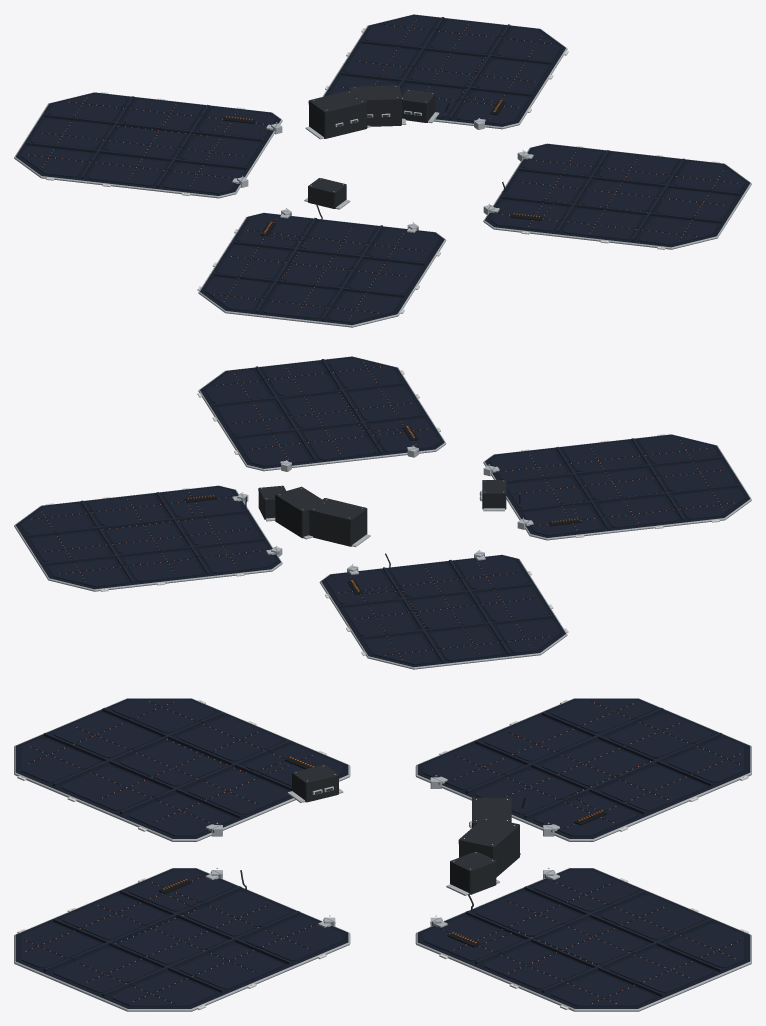
File: orbiter-solar.glb
3 views of the same model, one above another, from view 1: azimuth 30°, elevation 25°; view 2: azimuth 150°, elevation 25°; view 3: azimuth 270°, elevation 25° (orthographic). The views are drawn at different scales.
Visible parts, largest first — view 1: ARRAY_0_REAR_PADS_LO1_solar_panel_navy_rear_pad, ARRAY_2_REAR_PADS_LO1_solar_panel_navy_rear_pad, ARRAY_1_REAR_PADS_LO1_solar_panel_navy_rear_pad, ARRAY_3_REAR_PADS_LO1_solar_panel_navy_rear_pad, ARRAY_1_BACKING_LO1_solar_panel_navy-black_back, ARRAY_0_BACKING_LO1_solar_panel_navy-black_back, ARRAY_2_BACKING_LO1_solar_panel_navy-black_back, ARRAY_3_BACKING_LO1_solar_panel_navy-black_back, ARRAY_2_RIBS_LO1_solar_panel_navy_anodized_stiffener, ARRAY_0_RIBS_LO1_solar_panel_navy_anodized_stiffener, ARRAY_1_RIBS_LO1_solar_panel_navy_anodized_stiffener, ARRAY_3_RIBS_LO1_solar_panel_navy_anodized_stiffener (+14 smaller); view 2: ARRAY_3_REAR_PADS_LO1_solar_panel_navy_rear_pad, ARRAY_2_REAR_PADS_LO1_solar_panel_navy_rear_pad, ARRAY_1_REAR_PADS_LO1_solar_panel_navy_rear_pad, ARRAY_0_REAR_PADS_LO1_solar_panel_navy_rear_pad, ARRAY_2_BACKING_LO1_solar_panel_navy-black_back, ARRAY_0_BACKING_LO1_solar_panel_navy-black_back, ARRAY_3_BACKING_LO1_solar_panel_navy-black_back, ARRAY_1_BACKING_LO1_solar_panel_navy-black_back, ARRAY_3_RIBS_LO1_solar_panel_navy_anodized_stiffener, ARRAY_1_RIBS_LO1_solar_panel_navy_anodized_stiffener, ARRAY_2_RIBS_LO1_solar_panel_navy_anodized_stiffener, ARRAY_0_RIBS_LO1_solar_panel_navy_anodized_stiffener (+12 smaller); view 3: ARRAY_0_REAR_PADS_LO1_solar_panel_navy_rear_pad, ARRAY_3_REAR_PADS_LO1_solar_panel_navy_rear_pad, ARRAY_2_REAR_PADS_LO1_solar_panel_navy_rear_pad, ARRAY_1_REAR_PADS_LO1_solar_panel_navy_rear_pad, ARRAY_0_BACKING_LO1_solar_panel_navy-black_back, ARRAY_3_BACKING_LO1_solar_panel_navy-black_back, ARRAY_2_BACKING_LO1_solar_panel_navy-black_back, ARRAY_1_BACKING_LO1_solar_panel_navy-black_back, ARRAY_0_RIBS_LO1_solar_panel_navy_anodized_stiffener, ARRAY_2_RIBS_LO1_solar_panel_navy_anodized_stiffener, ARRAY_3_RIBS_LO1_solar_panel_navy_anodized_stiffener, ARRAY_1_RIBS_LO1_solar_panel_navy_anodized_stiffener (+15 smaller).
Part boxes in pixels (bbox=[...]): ARRAY_0_REAR_PADS_LO1_solar_panel_navy_rear_pad: bbox=[490, 145, 745, 244]; ARRAY_2_REAR_PADS_LO1_solar_panel_navy_rear_pad: bbox=[20, 94, 275, 193]; ARRAY_1_REAR_PADS_LO1_solar_panel_navy_rear_pad: bbox=[205, 214, 439, 322]; ARRAY_3_REAR_PADS_LO1_solar_panel_navy_rear_pad: bbox=[329, 16, 560, 124]; ARRAY_1_BACKING_LO1_solar_panel_navy-black_back: bbox=[200, 213, 444, 325]; ARRAY_0_BACKING_LO1_solar_panel_navy-black_back: bbox=[485, 143, 750, 247]; ARRAY_2_BACKING_LO1_solar_panel_navy-black_back: bbox=[15, 92, 280, 195]; ARRAY_3_BACKING_LO1_solar_panel_navy-black_back: bbox=[324, 14, 565, 126]; ARRAY_2_RIBS_LO1_solar_panel_navy_anodized_stiffener: bbox=[26, 96, 264, 187]; ARRAY_0_RIBS_LO1_solar_panel_navy_anodized_stiffener: bbox=[501, 150, 739, 241]; ARRAY_1_RIBS_LO1_solar_panel_navy_anodized_stiffener: bbox=[213, 218, 424, 320]; ARRAY_3_RIBS_LO1_solar_panel_navy_anodized_stiffener: bbox=[341, 17, 552, 119]; ARRAY_3_REAR_PADS_LO1_solar_panel_navy_rear_pad: bbox=[20, 487, 275, 586]; ARRAY_2_REAR_PADS_LO1_solar_panel_navy_rear_pad: bbox=[326, 556, 560, 664]; ARRAY_1_REAR_PADS_LO1_solar_panel_navy_rear_pad: bbox=[490, 436, 745, 535]; ARRAY_0_REAR_PADS_LO1_solar_panel_navy_rear_pad: bbox=[205, 358, 439, 466]; ARRAY_2_BACKING_LO1_solar_panel_navy-black_back: bbox=[321, 555, 565, 667]; ARRAY_0_BACKING_LO1_solar_panel_navy-black_back: bbox=[200, 356, 444, 468]; ARRAY_3_BACKING_LO1_solar_panel_navy-black_back: bbox=[15, 485, 280, 589]; ARRAY_1_BACKING_LO1_solar_panel_navy-black_back: bbox=[485, 434, 750, 537]; ARRAY_3_RIBS_LO1_solar_panel_navy_anodized_stiffener: bbox=[26, 492, 264, 583]; ARRAY_1_RIBS_LO1_solar_panel_navy_anodized_stiffener: bbox=[506, 438, 739, 529]; ARRAY_2_RIBS_LO1_solar_panel_navy_anodized_stiffener: bbox=[341, 560, 552, 662]; ARRAY_0_RIBS_LO1_solar_panel_navy_anodized_stiffener: bbox=[213, 359, 424, 461]; ARRAY_0_REAR_PADS_LO1_solar_panel_navy_rear_pad: bbox=[21, 870, 342, 1006]; ARRAY_3_REAR_PADS_LO1_solar_panel_navy_rear_pad: bbox=[423, 870, 744, 1006]; ARRAY_2_REAR_PADS_LO1_solar_panel_navy_rear_pad: bbox=[423, 700, 744, 836]; ARRAY_1_REAR_PADS_LO1_solar_panel_navy_rear_pad: bbox=[21, 700, 342, 836]; ARRAY_0_BACKING_LO1_solar_panel_navy-black_back: bbox=[15, 868, 348, 1008]; ARRAY_3_BACKING_LO1_solar_panel_navy-black_back: bbox=[417, 868, 750, 1008]; ARRAY_2_BACKING_LO1_solar_panel_navy-black_back: bbox=[417, 698, 750, 838]; ARRAY_1_BACKING_LO1_solar_panel_navy-black_back: bbox=[15, 698, 348, 838]; ARRAY_0_RIBS_LO1_solar_panel_navy_anodized_stiffener: bbox=[43, 886, 300, 996]; ARRAY_2_RIBS_LO1_solar_panel_navy_anodized_stiffener: bbox=[465, 708, 722, 818]; ARRAY_3_RIBS_LO1_solar_panel_navy_anodized_stiffener: bbox=[465, 886, 722, 996]; ARRAY_1_RIBS_LO1_solar_panel_navy_anodized_stiffener: bbox=[43, 708, 291, 818].
Size of the model in its own units: 3.12 by 0.2203 by 3.12.
